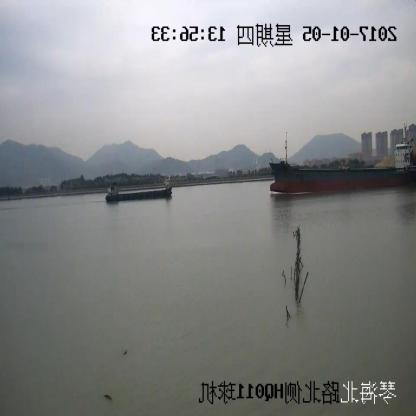Bulk Carrier: (271, 120, 415, 195), (107, 176, 173, 203)
